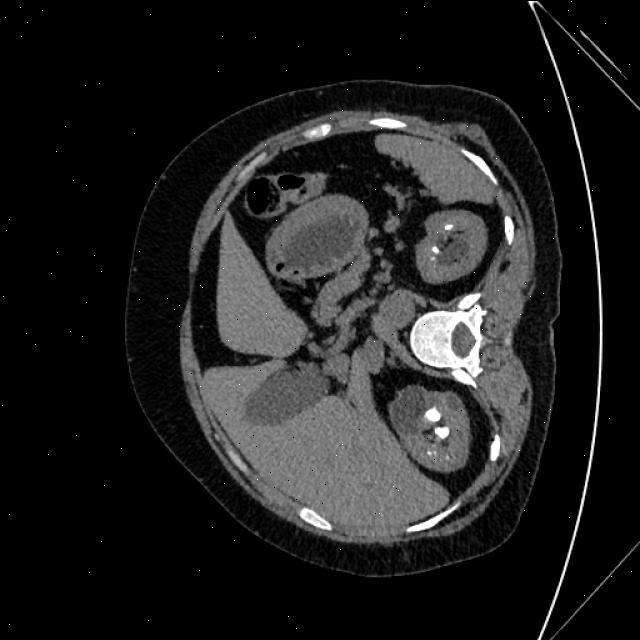kidneystone: (424, 406, 441, 421), (434, 426, 449, 438), (444, 222, 453, 230), (431, 247, 439, 252), (426, 450, 432, 455)
